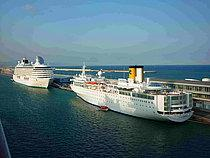Ship: (71, 60, 200, 128), (11, 55, 58, 91)
